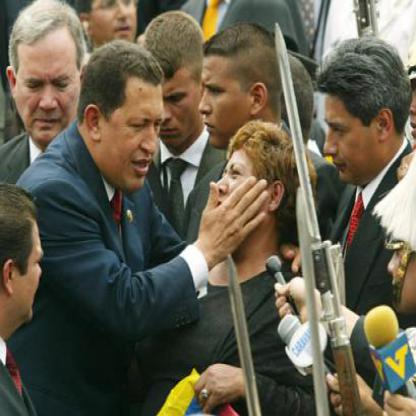face: (102, 53, 170, 197), (16, 13, 84, 145), (215, 119, 274, 246), (195, 28, 256, 150), (321, 64, 380, 186), (145, 26, 203, 149), (92, 1, 142, 54)
